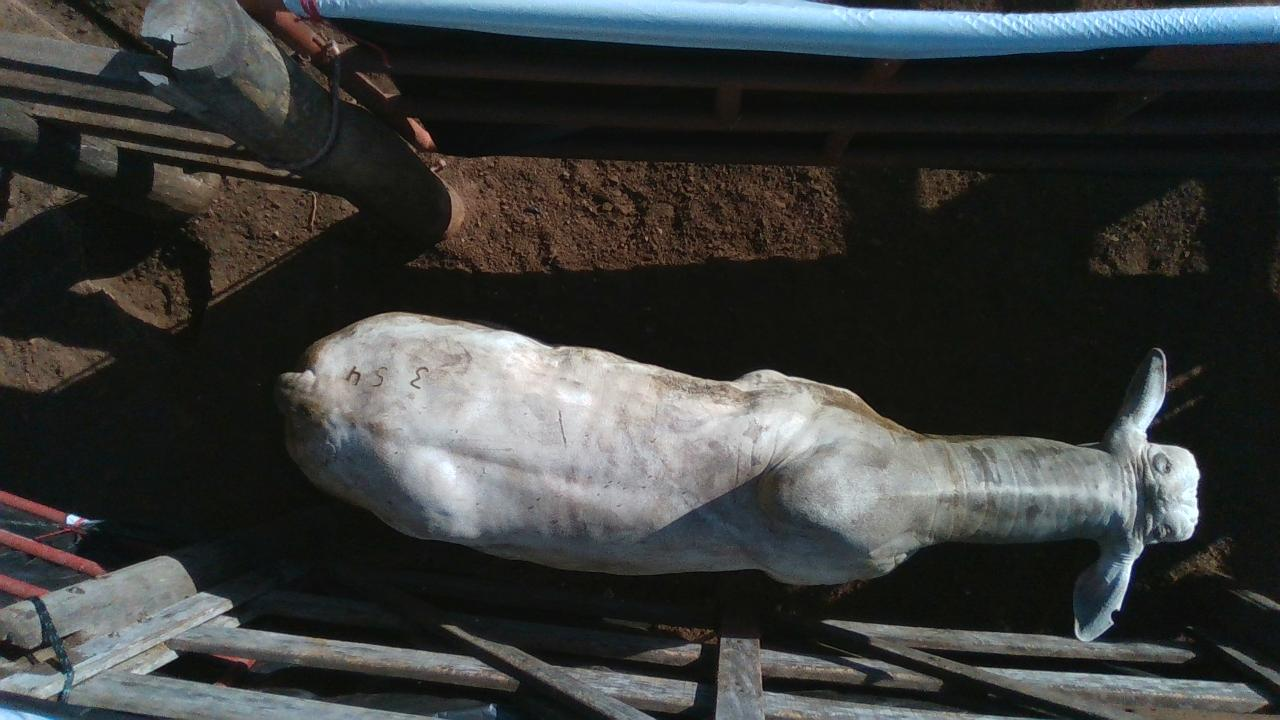cattle: (273, 308, 1202, 643)
